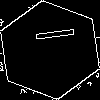I: (25, 25, 75, 45)
